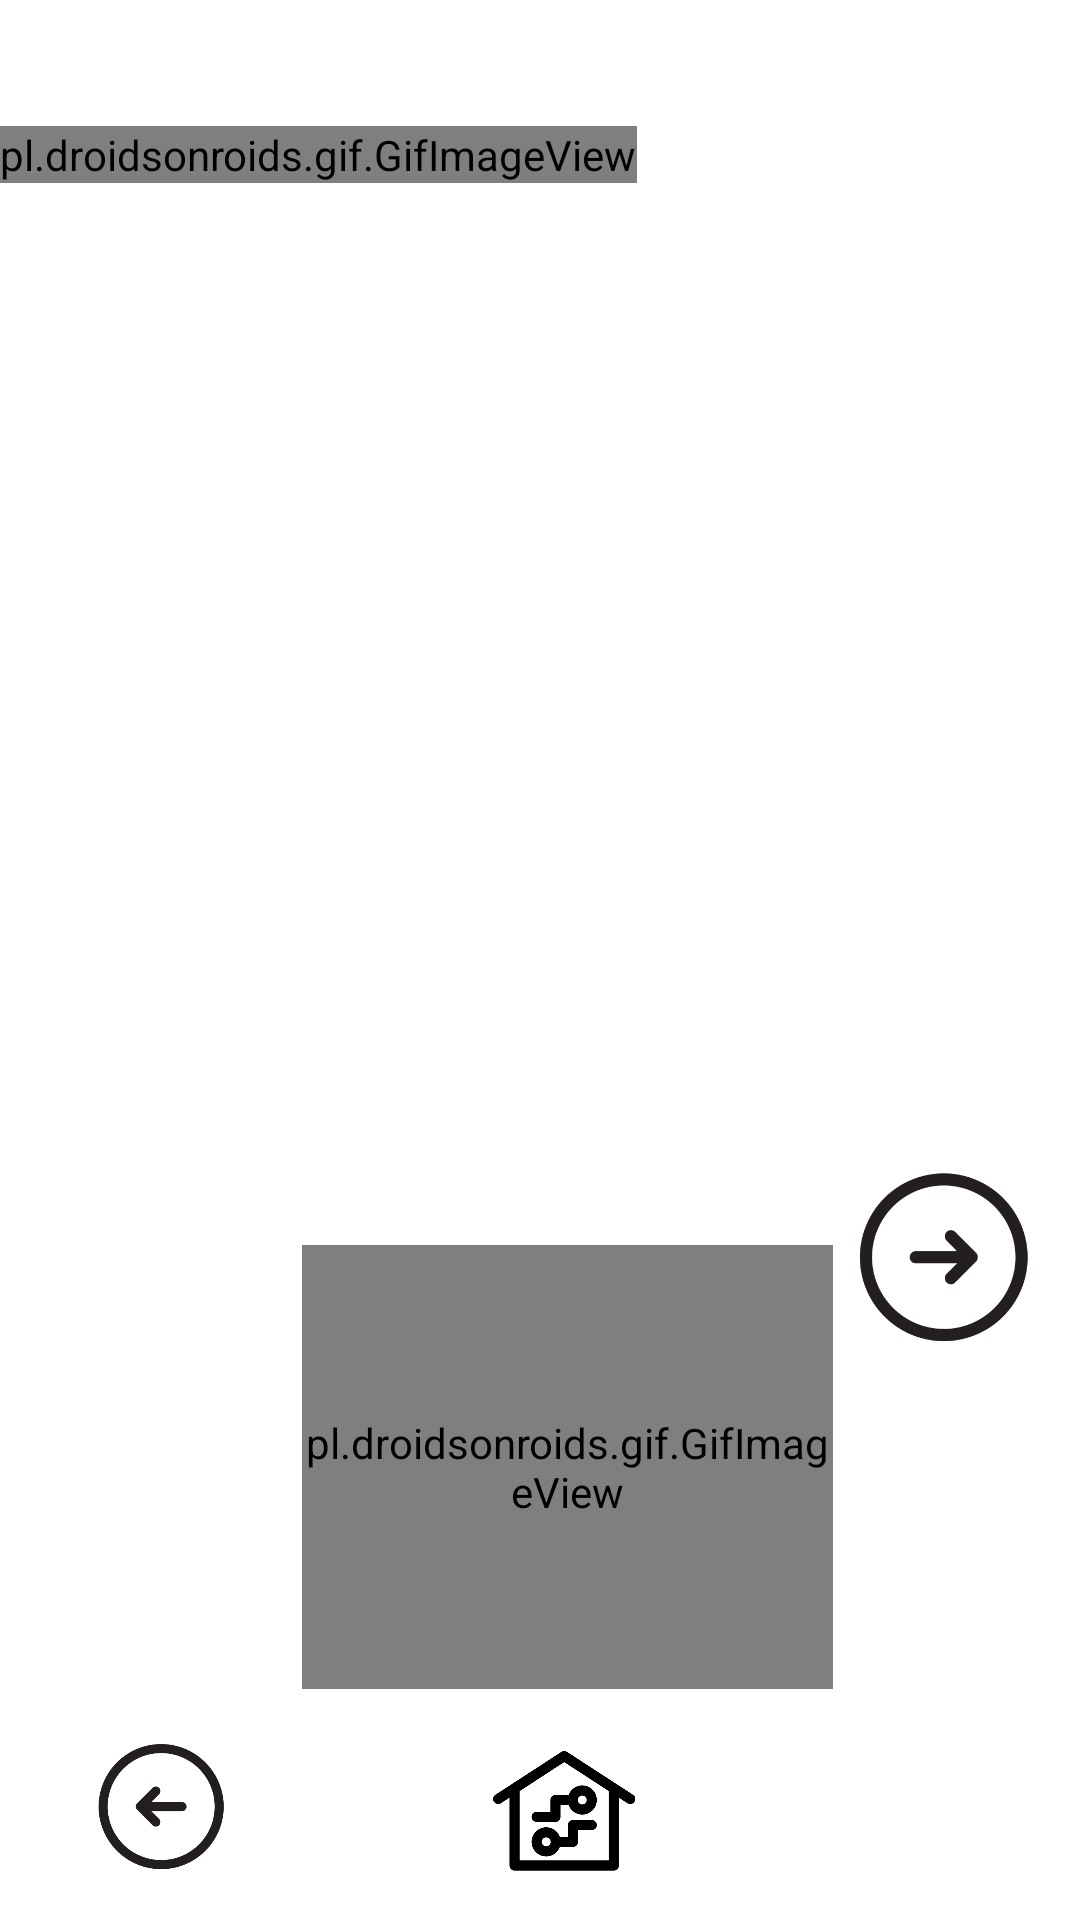

Screen size 1080 x 1920. Icon name, then its center in pixels as [x,y]:
back: [161,1806]
forward: [944,1257]
home: [564,1811]
